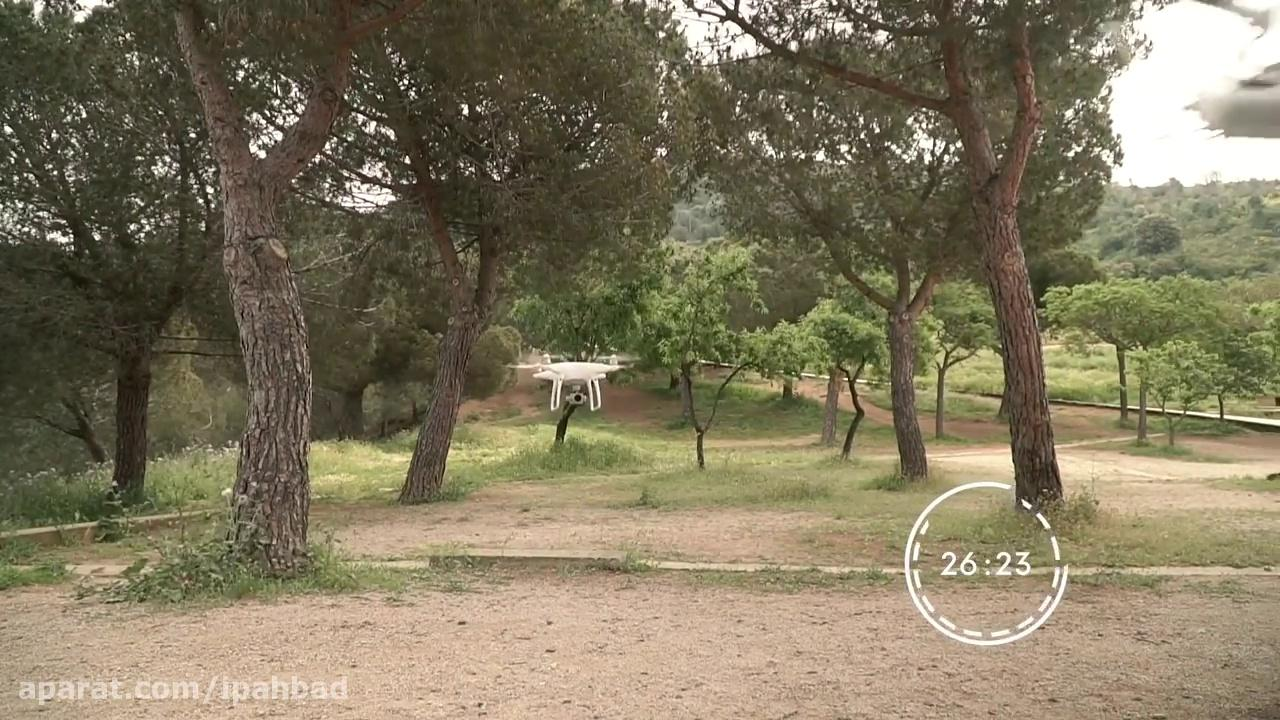drone: (497, 346, 644, 413)
